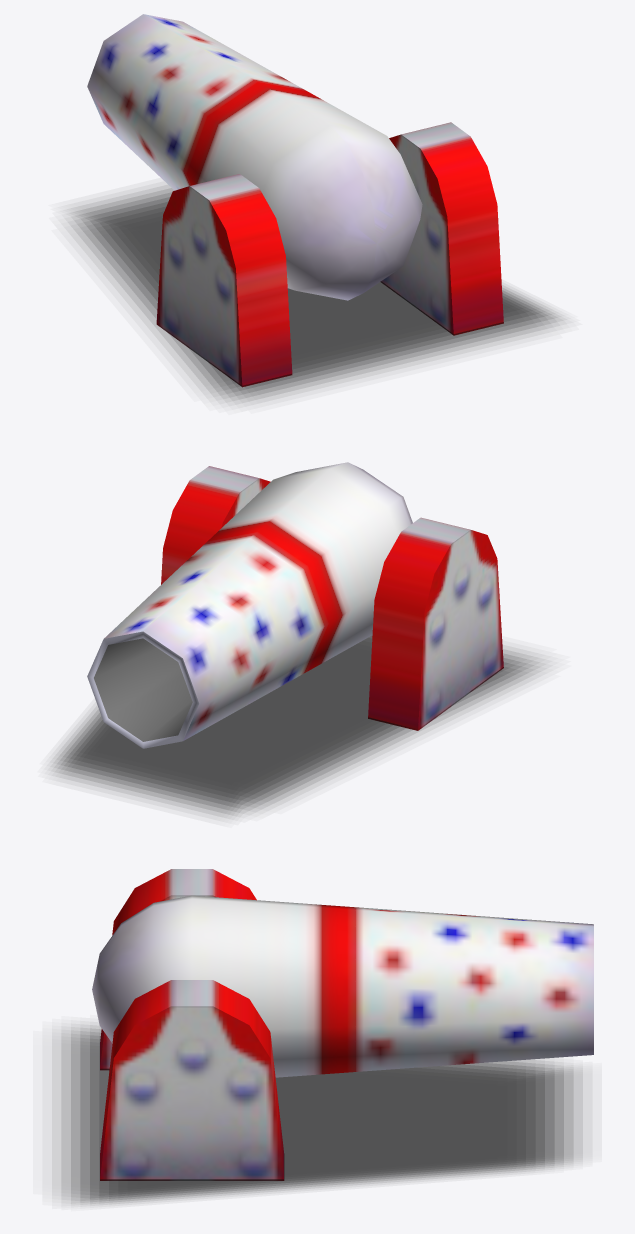
Rendered from toon_cannon.glb.
3 renders of one model, top to bottom at view 1: azimuth 30°, elevation 25°; view 2: azimuth 150°, elevation 25°; view 3: azimuth 270°, elevation 25°, orthographic. The views are drawn at different scales.
Parts seen in each view (by area): view 1: cannon, o1, o4, o4_1; view 2: cannon, o1, o4, o4_1; view 3: cannon, o1, o4_1, o4.
Boxes of the visible parts, x1,y1,x2,y2 form: cannon: [87, 14, 422, 300]; o1: [68, 185, 563, 403]; o4: [156, 174, 292, 387]; o4_1: [381, 122, 503, 335]; cannon: [87, 462, 412, 748]; o1: [51, 635, 546, 818]; o4: [368, 517, 503, 730]; o4_1: [161, 466, 270, 584]; cannon: [92, 895, 593, 1077]; o1: [52, 1025, 582, 1205]; o4_1: [100, 980, 283, 1180]; o4: [100, 869, 256, 1069].
Size of the model in its own units: 7.21 by 3.3 by 8.49.
Materials: 3 (2 with a texture image).
